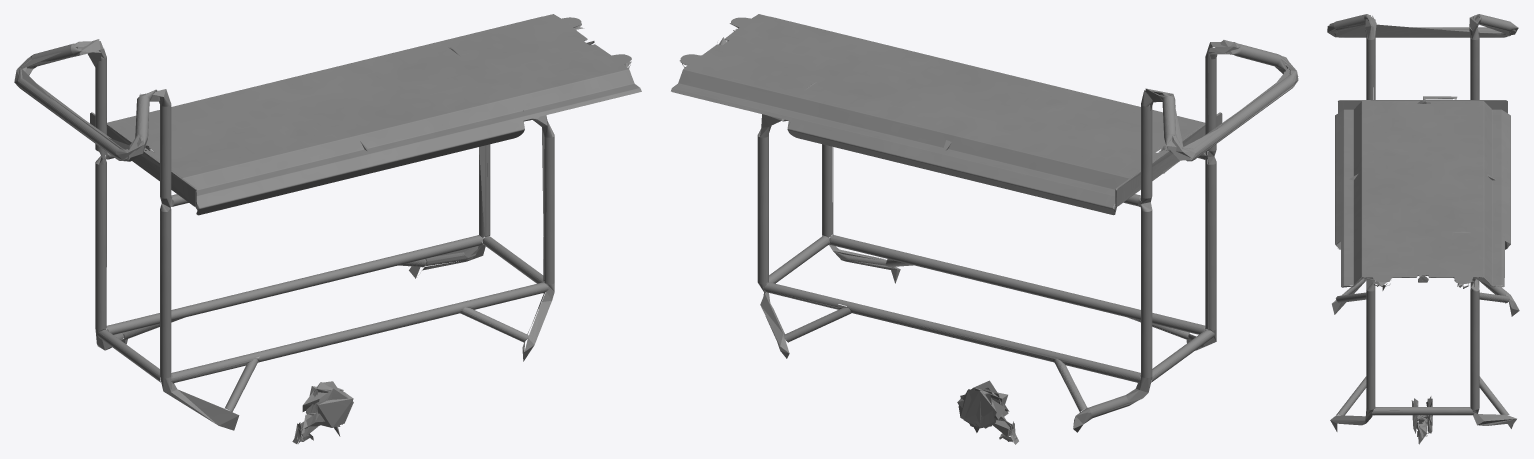
The model's file is cart_mobile_d01.glb.
3 renders of one model, left to right at view 1: azimuth 30°, elevation 25°; view 2: azimuth 150°, elevation 25°; view 3: azimuth 270°, elevation 25°, orthographic. The views are drawn at different scales.
Parts seen in each view (by area): view 1: geometry_0; view 2: geometry_0; view 3: geometry_0.
Boxes of the visible parts, x1,y1,x2,y2 form: geometry_0: (14, 14, 641, 443); geometry_0: (671, 14, 1298, 444); geometry_0: (1327, 14, 1519, 444).
Bounding box in the file's own units: 0.42 × 0.3147 × 0.1607.
Materials: 1 (1 with a texture image).
